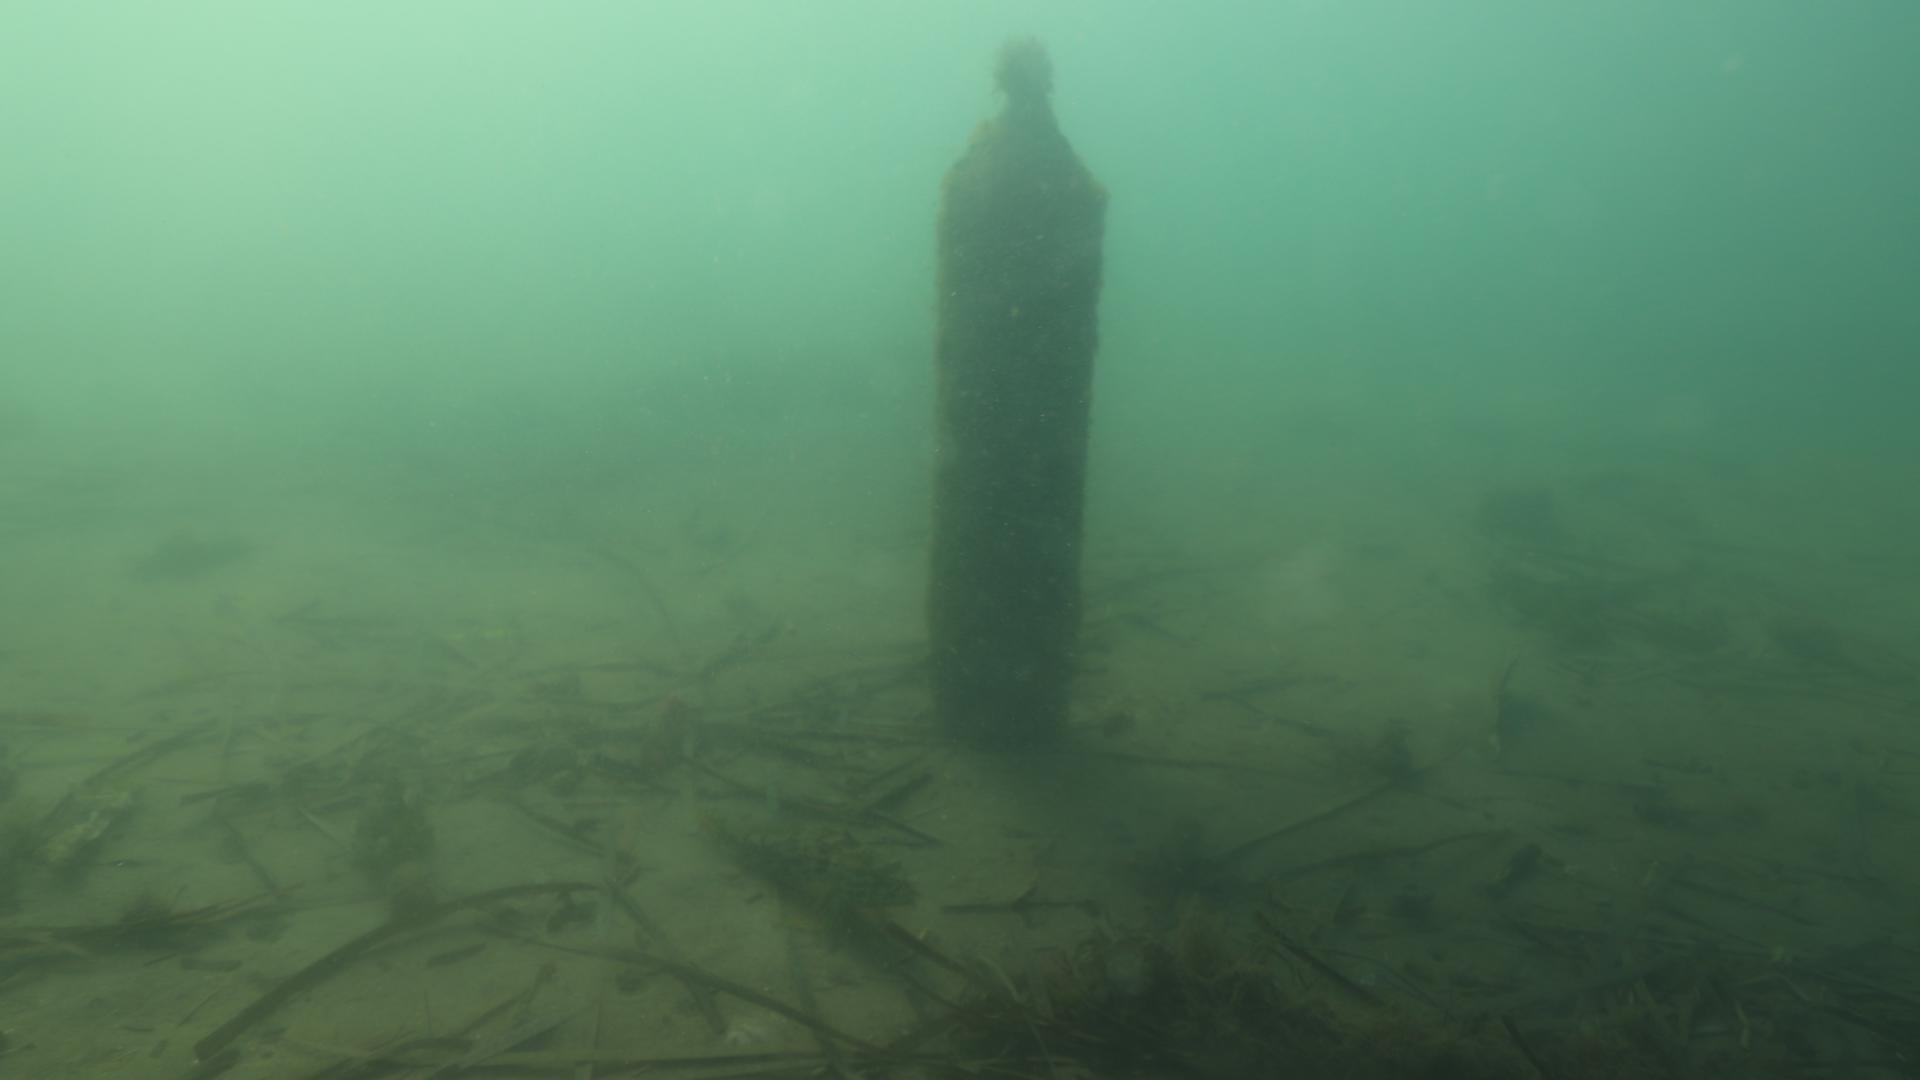eel fish trap: (920, 38, 1110, 738)
